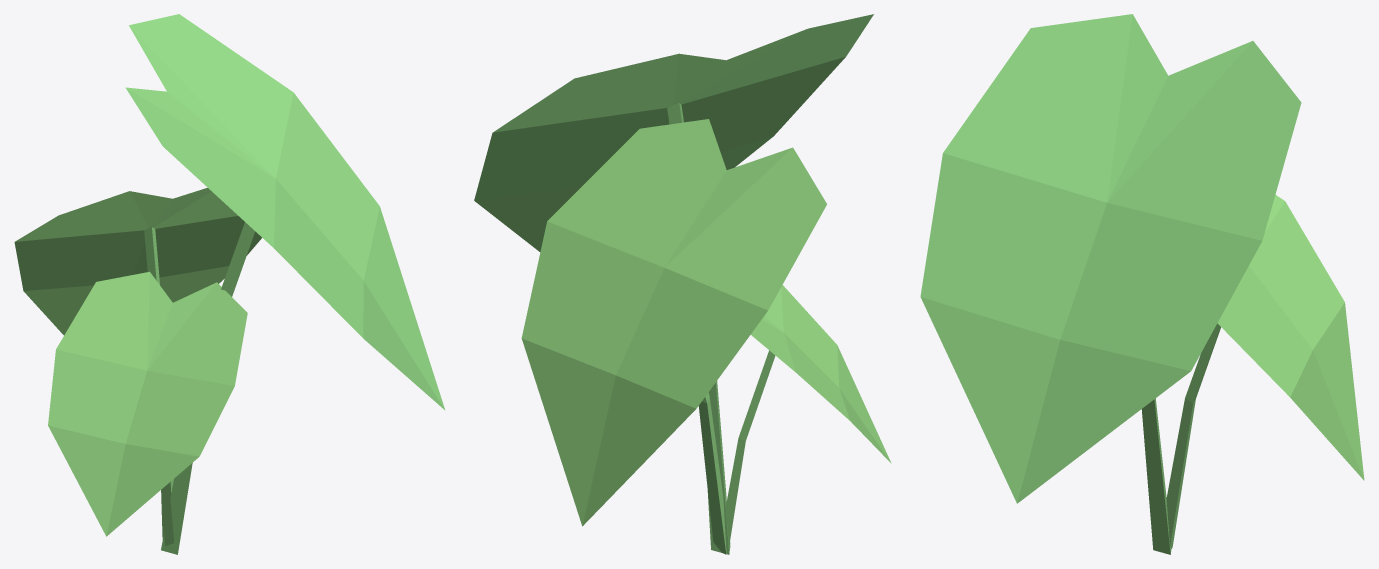
Rendered from Plant_d_OneS_05.fbx.
3 renders of one model, left to right at view 1: azimuth 30°, elevation 25°; view 2: azimuth 150°, elevation 25°; view 3: azimuth 270°, elevation 25°, orthographic. The views are drawn at different scales.
Parts seen in each view (by area): view 1: Plant_d_OneS_05; view 2: Plant_d_OneS_05; view 3: Plant_d_OneS_05.
Boxes of the visible parts, bbox=[...] form: Plant_d_OneS_05: bbox=[14, 14, 445, 554]; Plant_d_OneS_05: bbox=[474, 14, 891, 554]; Plant_d_OneS_05: bbox=[920, 14, 1364, 554].
Bounding box in the file's own units: 45.25 × 62.62 × 49.5.
